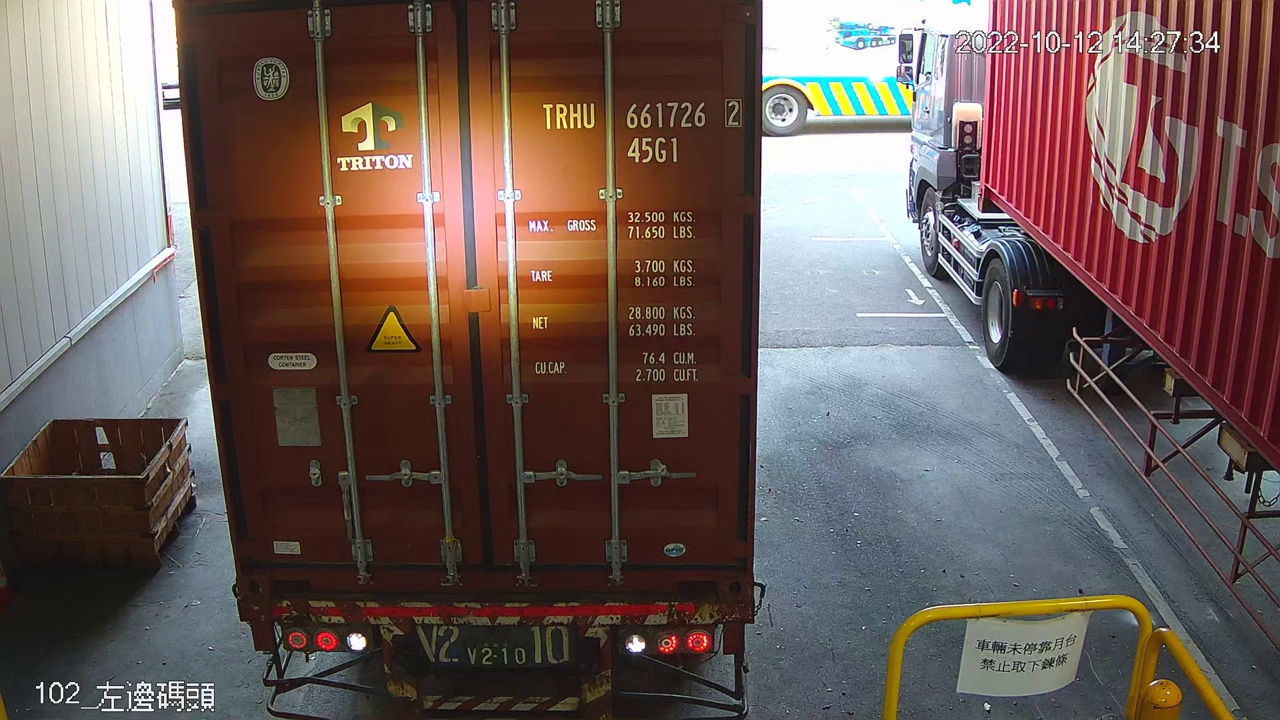container: (536, 91, 748, 170)
